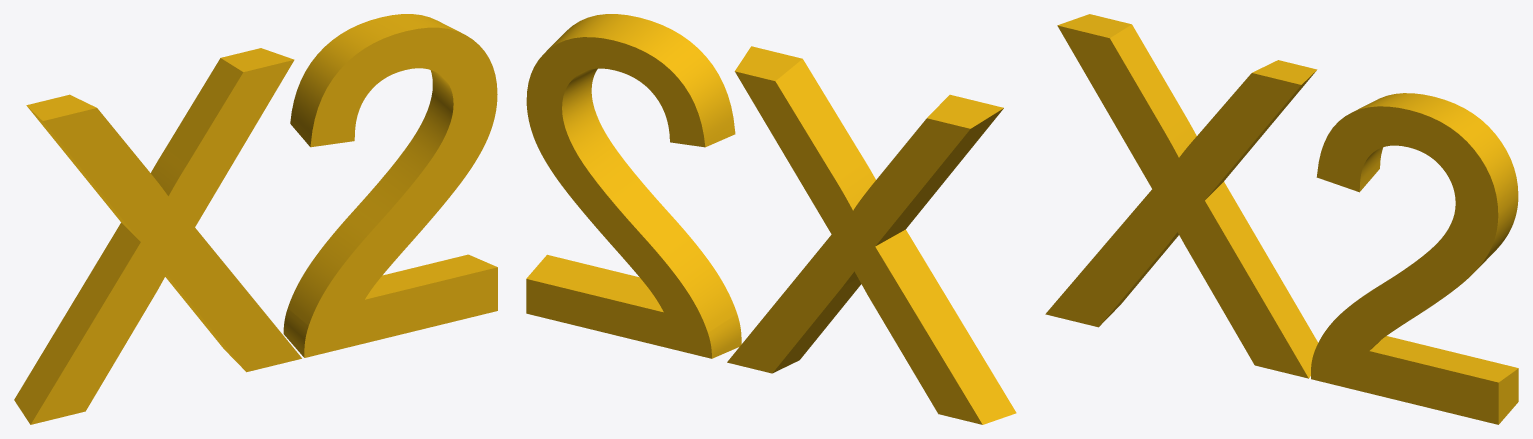
The picture shows the model from 3 angles, left to right: view 1: azimuth 30°, elevation 25°; view 2: azimuth 150°, elevation 25°; view 3: azimuth 330°, elevation 25°; orthographic projection. The views are drawn at different scales.
Visible parts, largest first — view 1: Text001; view 2: Text001; view 3: Text001.
Boxes of the visible parts, bbox=[...] form: Text001: bbox=[14, 14, 497, 424]; Text001: bbox=[526, 14, 1016, 424]; Text001: bbox=[1045, 14, 1518, 424].
Size of the model in its own units: 107 by 66.4 by 10.
